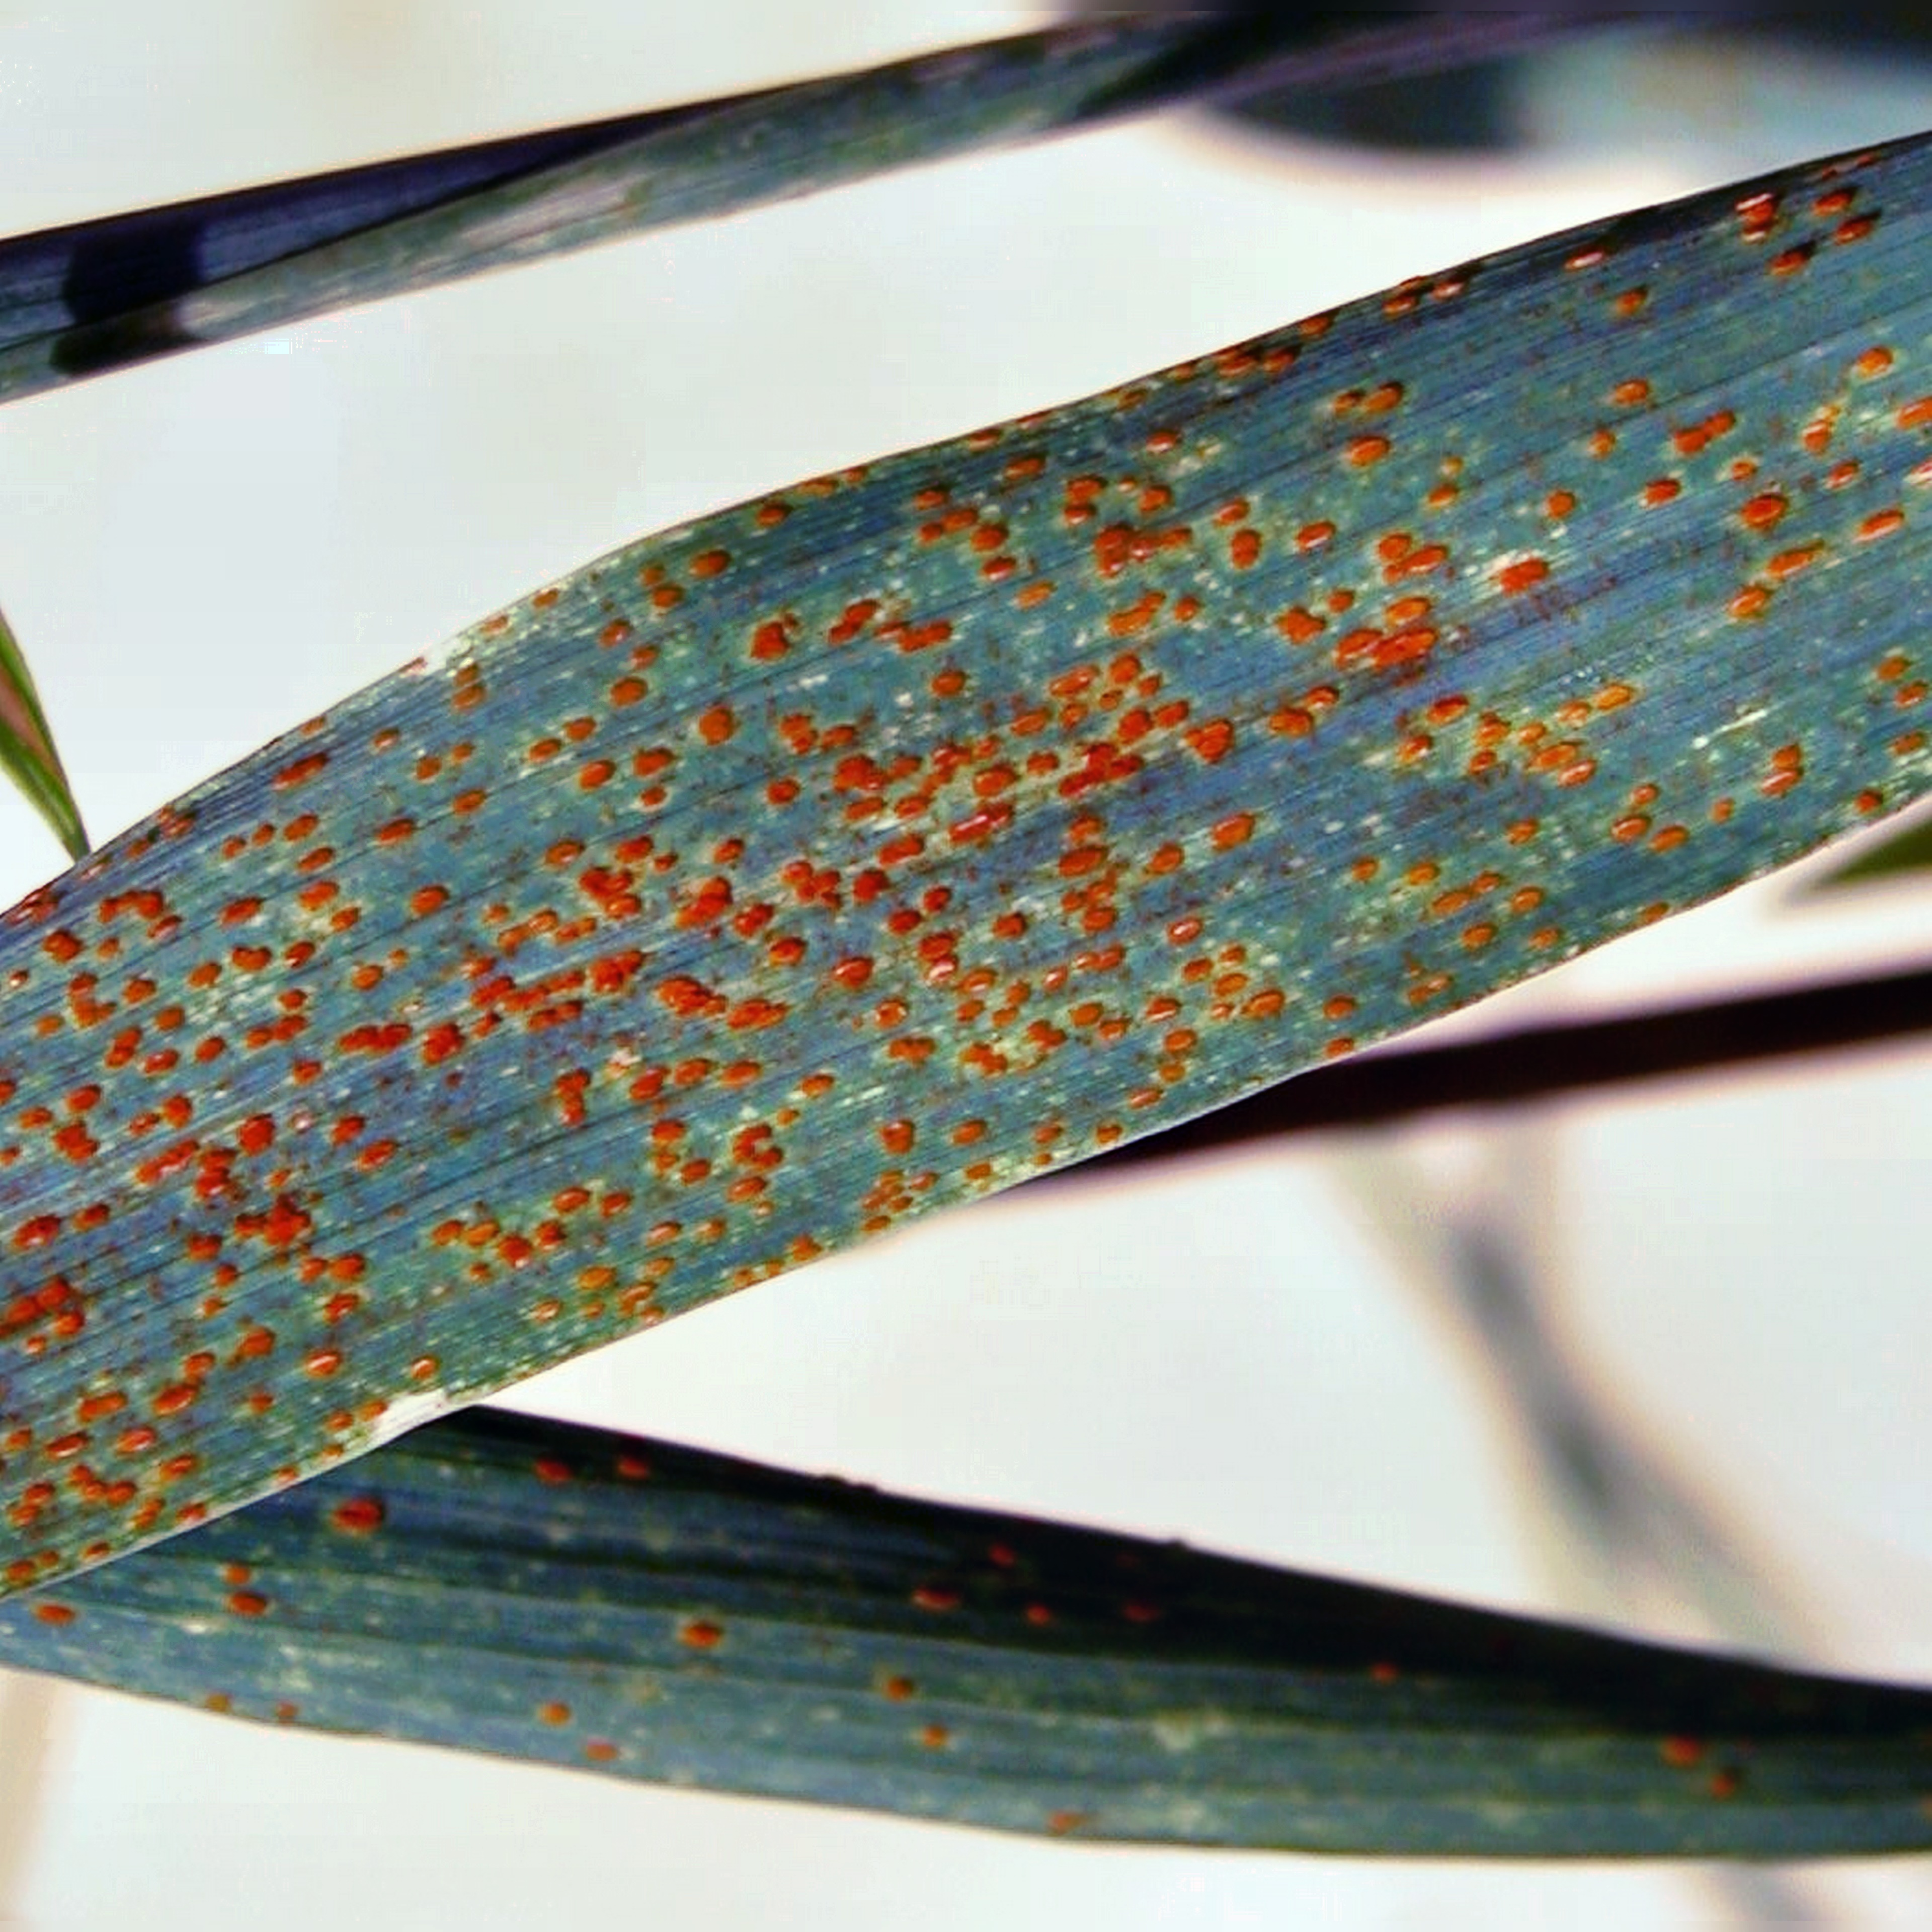Leaf Rust: (67, 189, 1826, 1495)
